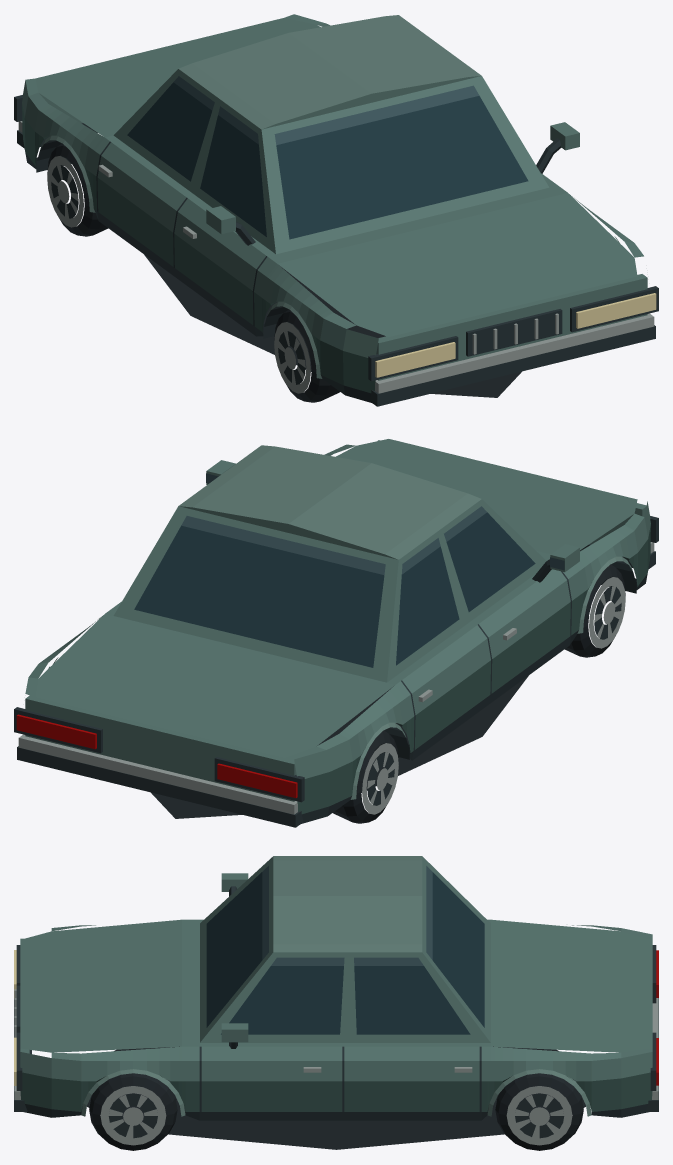
The model's file is sedan-3k.glb.
3 views of the same model, one above another, from view 1: azimuth 30°, elevation 25°; view 2: azimuth 150°, elevation 25°; view 3: azimuth 270°, elevation 25° (orthographic). The views are drawn at different scales.
Parts seen in each view (by area): view 1: sedan-3k; view 2: sedan-3k; view 3: sedan-3k.
Boxes of the visible parts, x1=… form: sedan-3k: x1=14, y1=14, x2=658, y2=406; sedan-3k: x1=14, y1=439, x2=658, y2=827; sedan-3k: x1=14, y1=856, x2=658, y2=1150.
Bounding box in the file's own units: 5.4 × 3.07 × 9.4.
